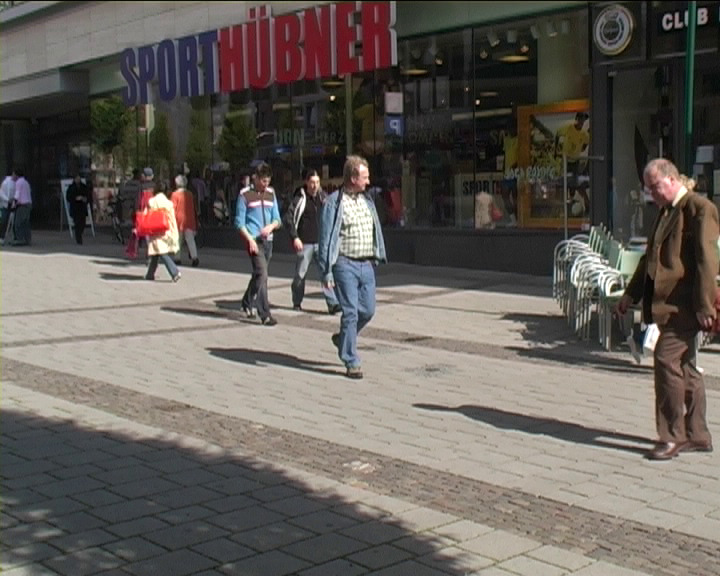deflection: (327, 153, 380, 233)
